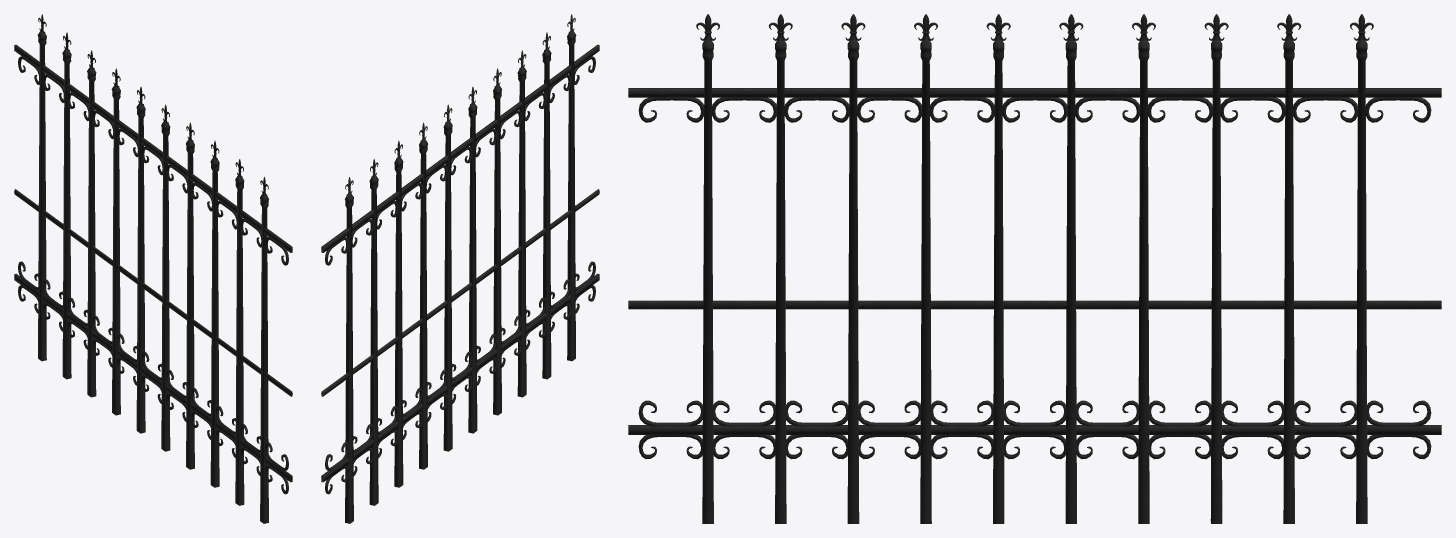
Rendered from railingFence.glb.
3 views of the same model, side by side, from view 1: azimuth 30°, elevation 25°; view 2: azimuth 150°, elevation 25°; view 3: azimuth 270°, elevation 25° (orthographic). The views are drawn at different scales.
Parts seen in each view (by area): view 1: Fence_01_Canal_LOD0_Fence_01_Main_0.002; view 2: Fence_01_Canal_LOD0_Fence_01_Main_0.002; view 3: Fence_01_Canal_LOD0_Fence_01_Main_0.002.
Part boxes in pixels (left/top/right/bottom): Fence_01_Canal_LOD0_Fence_01_Main_0.002: left=14, top=14, right=292, bottom=523; Fence_01_Canal_LOD0_Fence_01_Main_0.002: left=321, top=14, right=599, bottom=523; Fence_01_Canal_LOD0_Fence_01_Main_0.002: left=628, top=14, right=1441, bottom=523.
Bounding box in the file's own units: 0.0279 × 1.7 × 2.46.
1 material, 1 textured.
